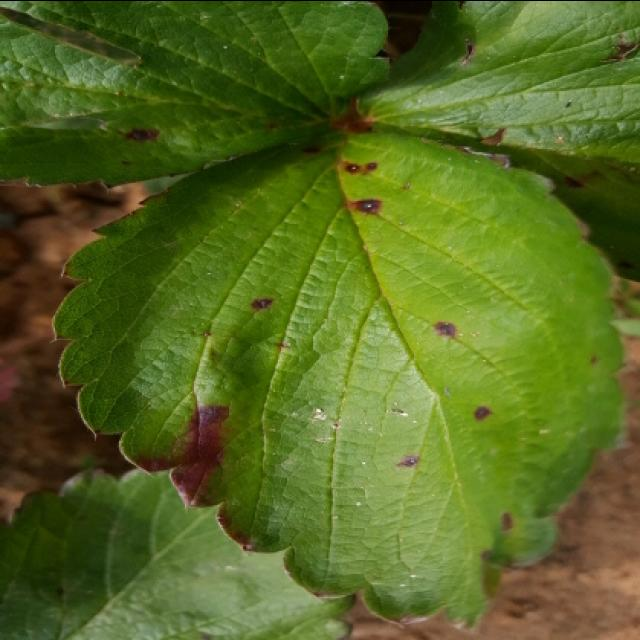Leaf Spot: (51, 130, 623, 633), (342, 2, 638, 284), (0, 2, 390, 190), (0, 466, 355, 640)
